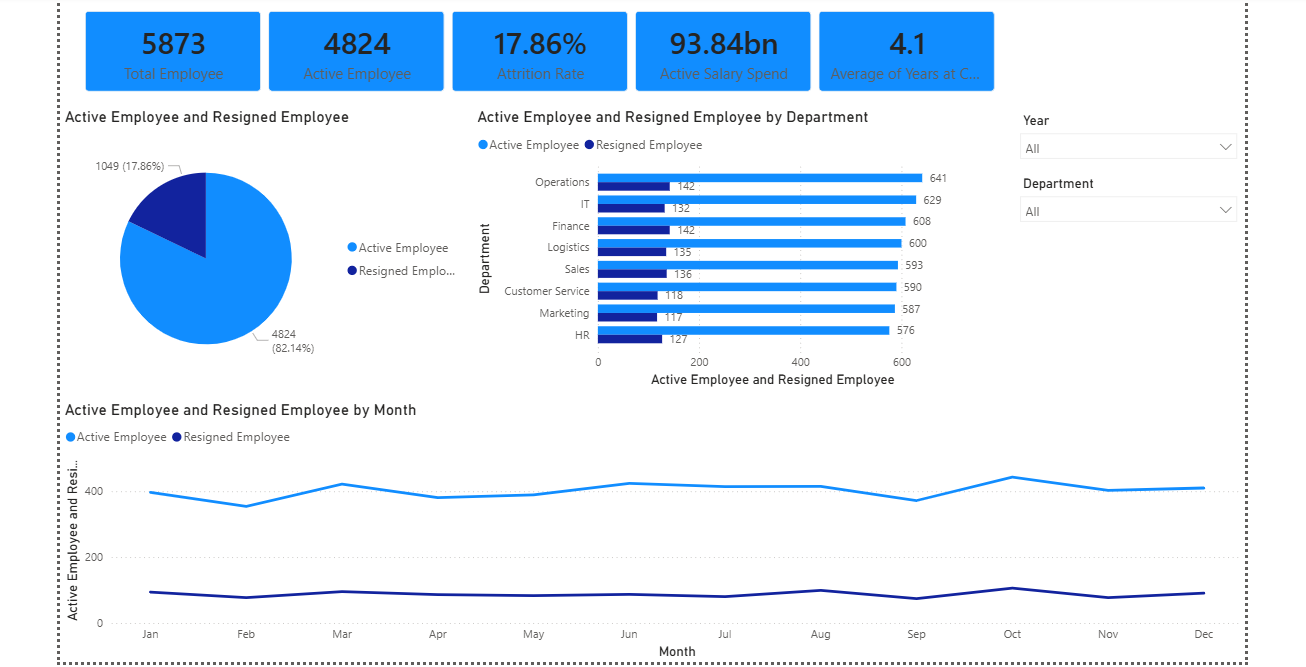

What the dashboard file says about the page in this screenshot:
{"tool":"powerbi","page":{"name":"Main Dashboard","canvas":[1280,720],"ordinal":0},"visuals":[{"type":"cardVisual","fields":{"Data":["HR Data.Total Employee","HR Data.Active Employee","HR Data.Attrition Rate","HR Data.Active Salary Spend","Avg(HR Data.Years at Company)"]},"box":[9.7,0,1016.9,121.4],"z":0},{"type":"pieChart","fields":{"Y":["HR Data.Active Employee","HR Data.Resigned Employee"]},"box":[0,121.4,445.3,306],"z":1000},{"type":"clusteredBarChart","fields":{"Category":["DimDepartment.Department"],"Y":["HR Data.Active Employee","HR Data.Resigned Employee"]},"box":[445.3,121.4,527.9,306],"z":2000},{"type":"lineChart","fields":{"Category":["DimDate.Month"],"Y":["HR Data.Active Employee","HR Data.Resigned Employee"]},"box":[0,427.5,1280.8,293.1],"z":3000},{"type":"slicer","fields":{"Values":["DimDate.Year"]},"box":[1026.6,121.4,254.2,68],"z":4000},{"type":"slicer","fields":{"Values":["DimDepartment.Department"]},"box":[1026.6,189.4,254.2,63.1],"z":5000}]}

Visuals, with their boxes on the page's 1280x720 design canvas (x1, y1, x2, y2). These are canvas units, not pixel positions in the 1306x667 screenshot, which may show the page scaled, cropped or inside an application window:
cardVisual - HR Data.Total Employee x HR Data.Active Employee: [10,0,1027,121]
pieChart - HR Data.Active Employee x HR Data.Resigned Employee: [0,121,445,427]
clusteredBarChart - DimDepartment.Department x HR Data.Active Employee: [445,121,973,427]
lineChart - DimDate.Month x HR Data.Active Employee: [0,428,1281,721]
slicer - DimDate.Year: [1027,121,1281,189]
slicer - DimDepartment.Department: [1027,189,1281,252]
